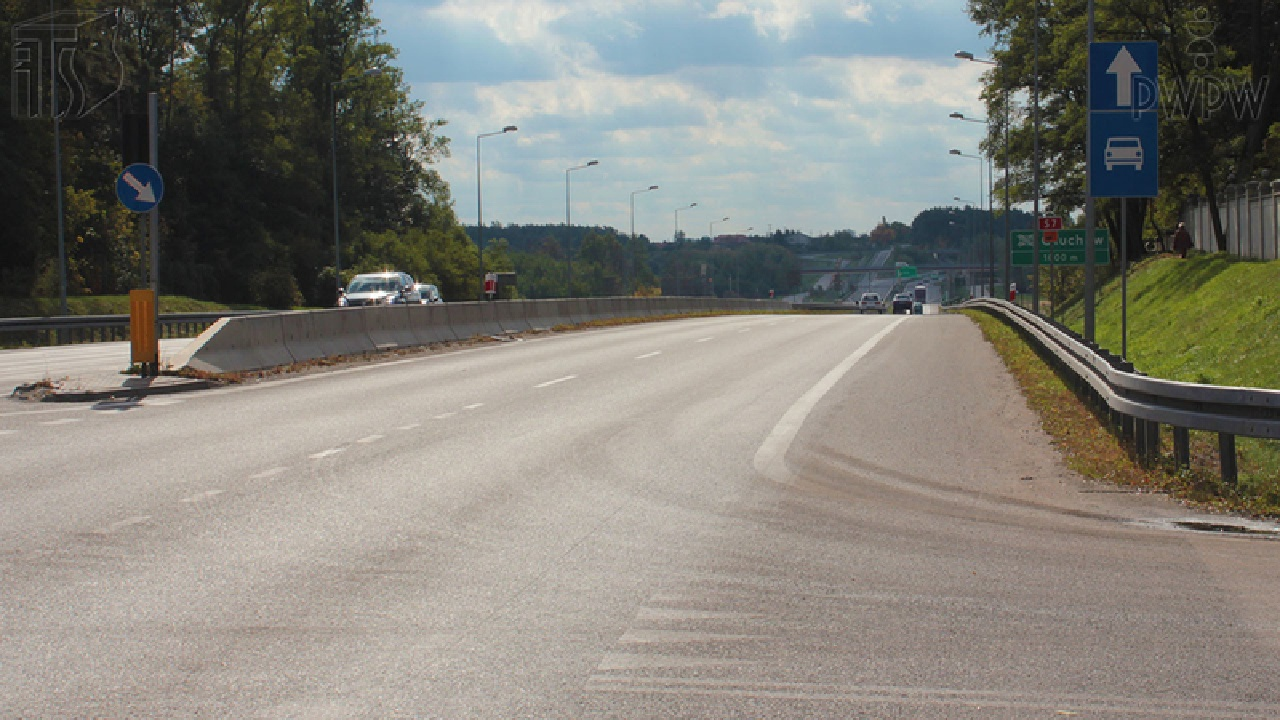C9: (115, 163, 164, 212)
D3: (1089, 41, 1158, 109)
D7: (1089, 111, 1158, 196)
